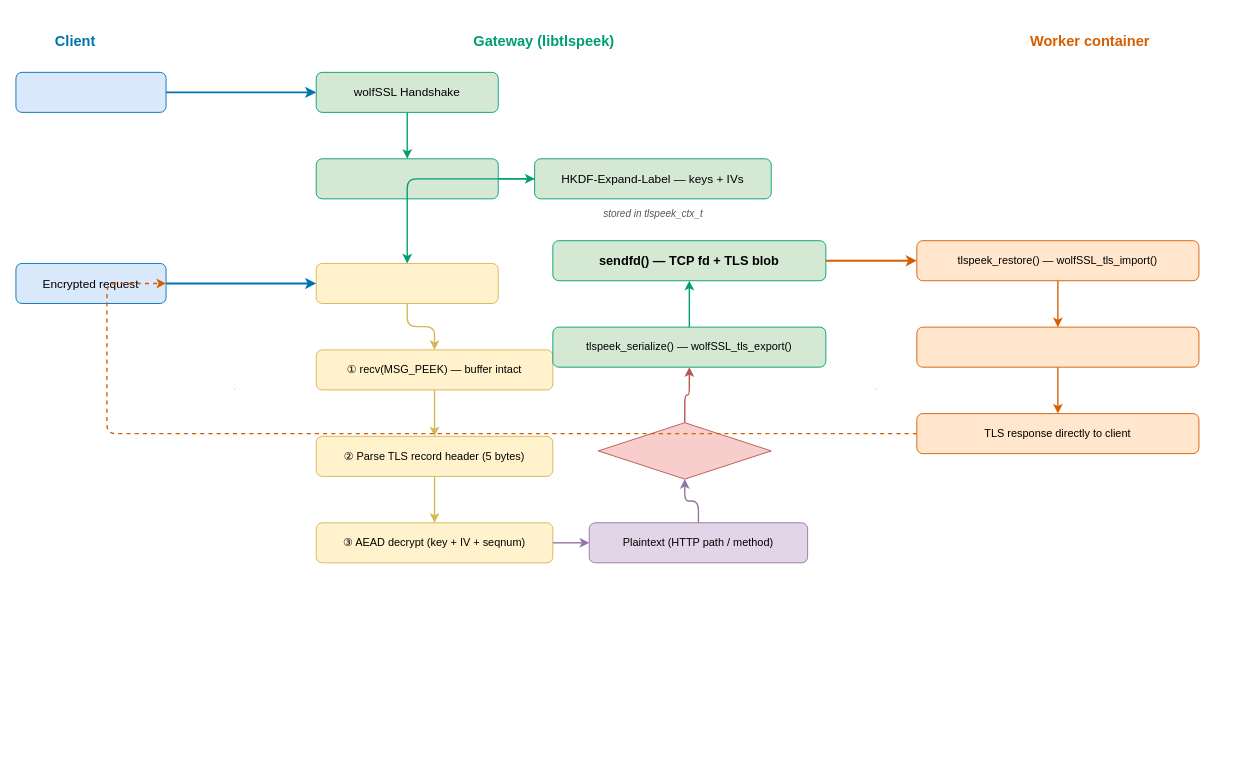
Image size: 1242x778. Some labels were removed from this diagram. The box of each missing label's shape, as (x1, y1, x2, y2) in pixels:
keylog callback fires: (315, 158, 498, 199)
Route to worker: (597, 422, 771, 479)
TLS ClientHello: (15, 71, 166, 112)
tls_read_peek(): (315, 263, 498, 303)
wolfSSL_read() — process request: (916, 326, 1199, 367)
